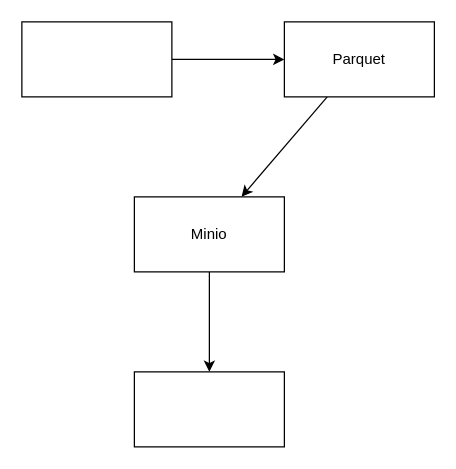
The diagram is 456 pixels wide and 469 high, and some of its shapes have lost their labels. Each missing label, with the centre of its shape:
API: (96,59)
Duckdb to query ?: (208,409)
